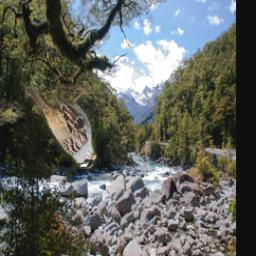Sparrow: (25, 84, 97, 170)
